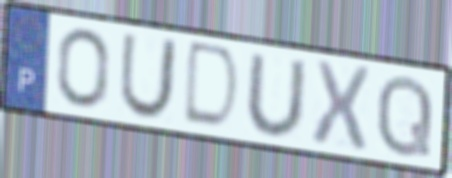D: (179, 38, 244, 134)
O: (55, 25, 111, 112)
Q: (373, 72, 436, 160)
U: (116, 31, 181, 122), (243, 52, 309, 141)
X: (309, 56, 373, 153)
